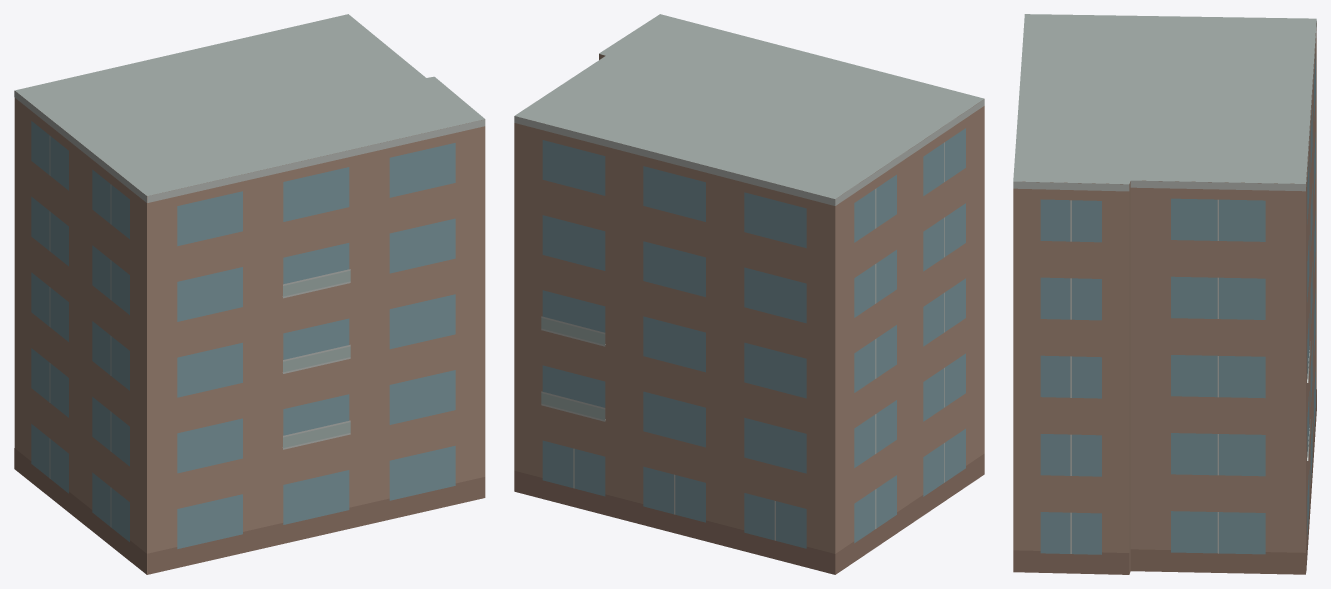
The model's file is survey-upis-32706818.glb.
The picture shows the model from 3 angles, left to right: view 1: azimuth 30°, elevation 25°; view 2: azimuth 150°, elevation 25°; view 3: azimuth 270°, elevation 25°; orthographic projection. The views are drawn at different scales.
Visible parts, largest first — view 1: survey-upis-32706818.tmp; view 2: survey-upis-32706818.tmp; view 3: survey-upis-32706818.tmp.
Part boxes in pixels (x1,y1,x2,y2): survey-upis-32706818.tmp: (14, 14, 485, 574); survey-upis-32706818.tmp: (514, 14, 984, 574); survey-upis-32706818.tmp: (1013, 14, 1316, 574).
Size of the model in its own units: 12.35 by 13.2 by 9.31.
